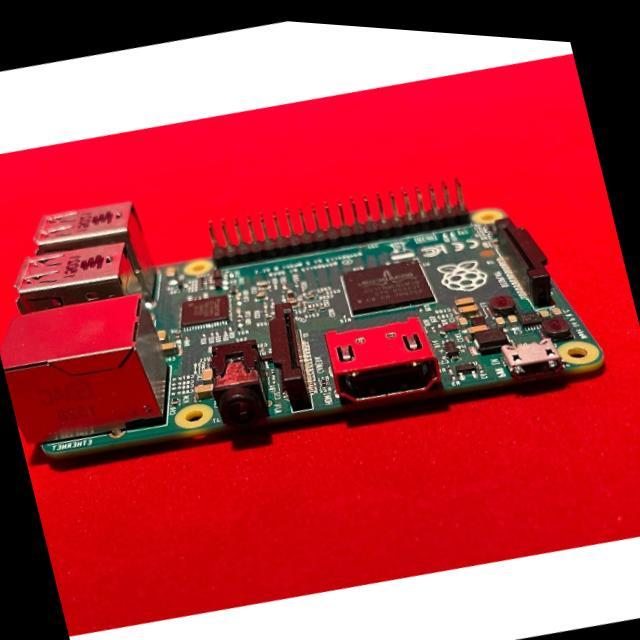Raspberry-Pi-2-B: (3, 180, 604, 457)
